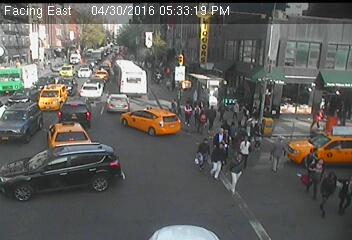neg: (264, 178, 289, 212), (159, 132, 180, 160), (14, 49, 34, 76), (235, 33, 255, 58), (119, 71, 137, 94), (171, 59, 188, 82), (73, 148, 90, 171), (93, 70, 110, 92), (135, 107, 151, 129), (12, 10, 28, 32), (283, 40, 299, 61), (61, 27, 77, 48), (47, 65, 63, 85), (171, 217, 186, 237), (73, 100, 87, 119), (268, 103, 282, 122), (216, 71, 229, 88), (256, 76, 268, 93), (102, 120, 114, 136), (109, 43, 120, 58), (93, 51, 102, 64), (153, 83, 162, 95)
pos: (313, 169, 348, 216), (221, 150, 255, 195), (306, 154, 336, 195), (266, 132, 296, 173), (297, 143, 325, 181), (206, 142, 234, 180), (233, 132, 260, 168), (191, 136, 217, 171), (331, 173, 351, 217), (207, 126, 229, 154), (177, 98, 198, 126), (165, 96, 184, 122), (203, 103, 222, 129), (193, 106, 212, 130), (311, 105, 328, 128), (230, 98, 246, 120), (215, 99, 230, 120)
